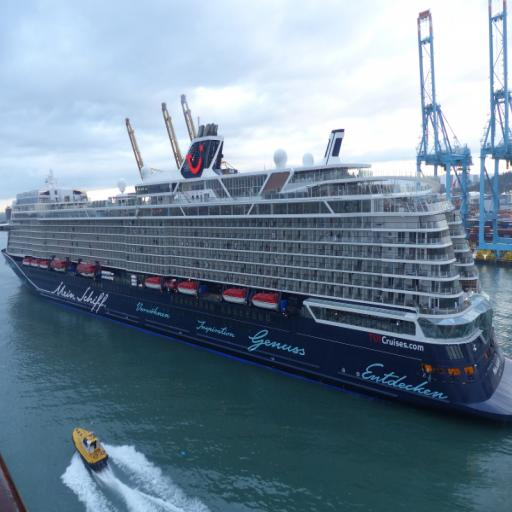cruises: (2, 122, 512, 425)
